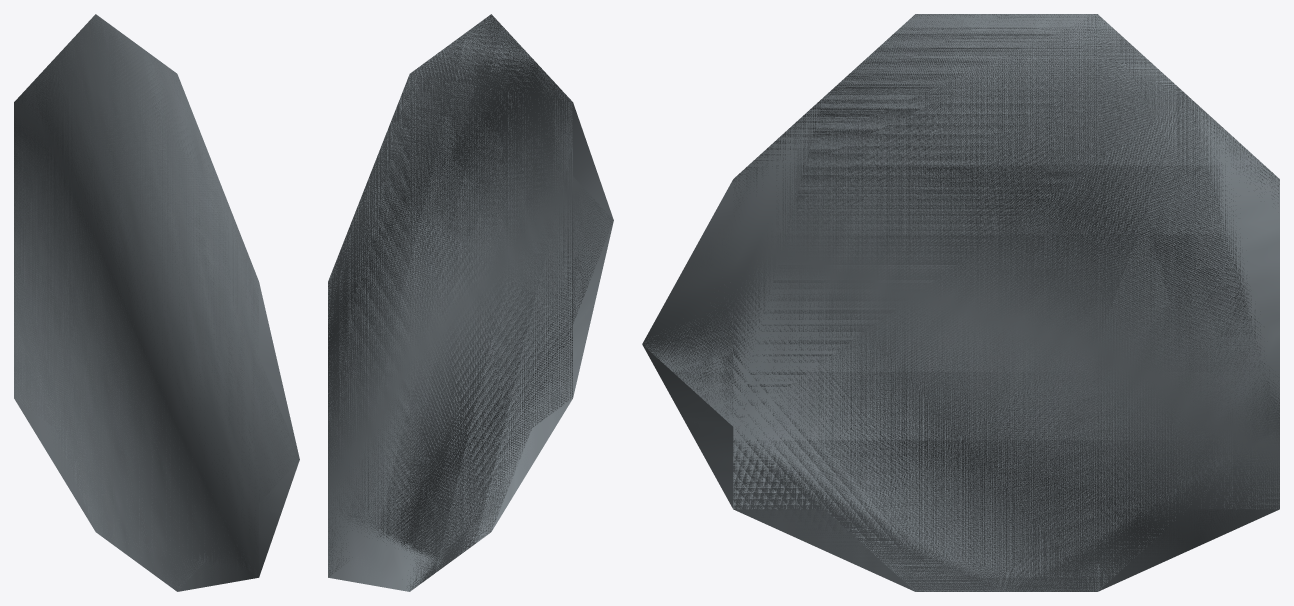
3 renders of one model, left to right at view 1: azimuth 30°, elevation 25°; view 2: azimuth 150°, elevation 25°; view 3: azimuth 270°, elevation 25°, orthographic. The views are drawn at different scales.
Bounding box in the file's own units: 0 × 0.56 × 0.56.
Materials: 1 (1 with a texture image).
